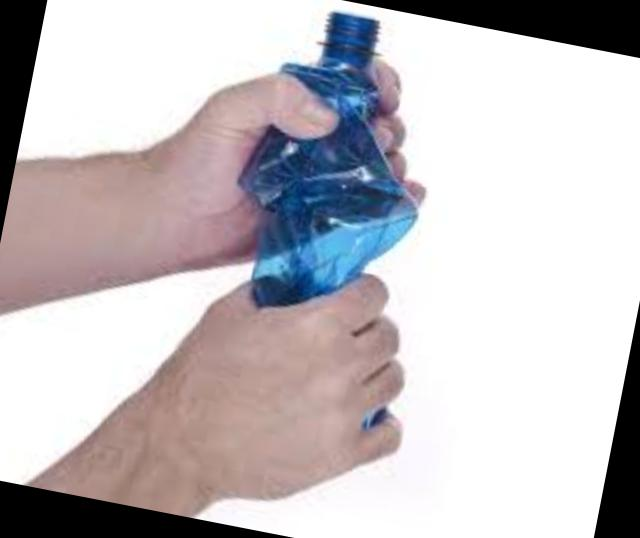plastic: (240, 11, 417, 304)
